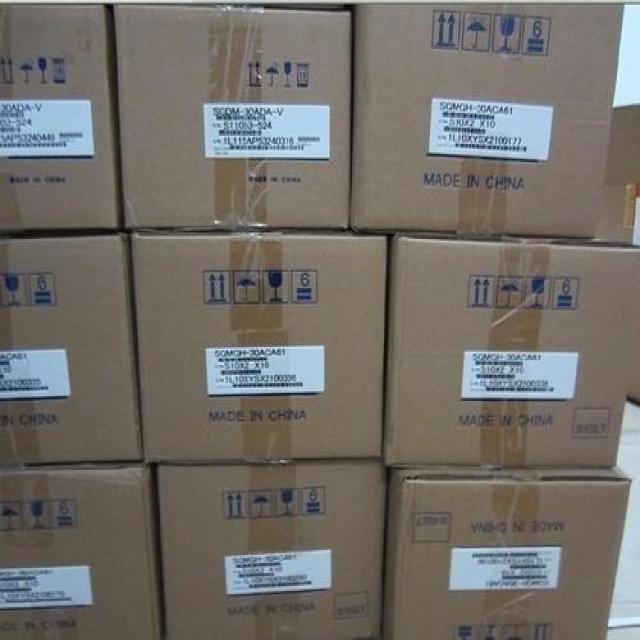box: (349, 3, 625, 241), (381, 232, 640, 468), (132, 228, 385, 463), (114, 5, 351, 236), (380, 465, 631, 638), (159, 458, 388, 640), (1, 234, 143, 465), (0, 460, 161, 640), (0, 0, 122, 229), (594, 105, 640, 242)
